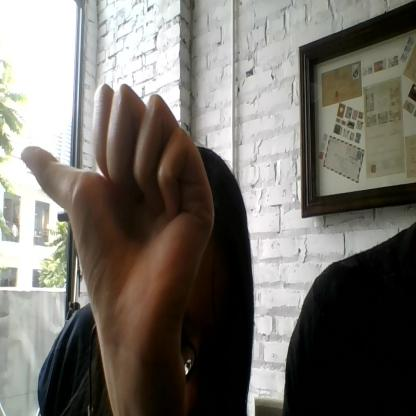right: (21, 82, 215, 336)
